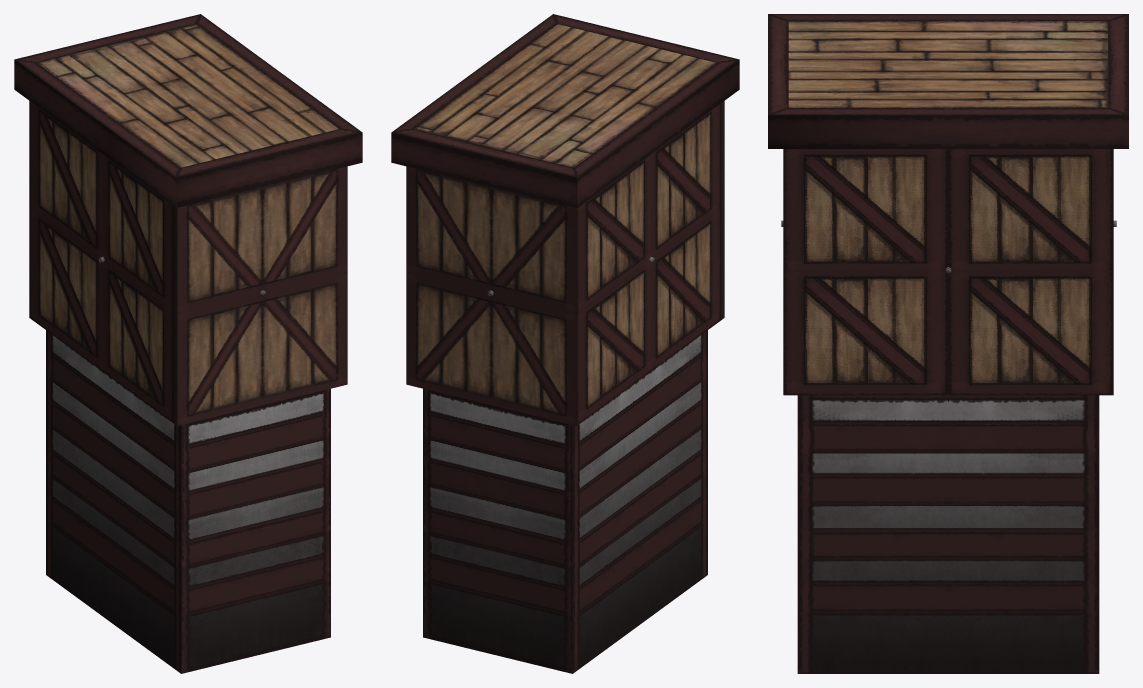
Rendered from GAM_MoveBridgeA.FBX.
The picture shows the model from 3 angles, left to right: view 1: azimuth 30°, elevation 25°; view 2: azimuth 150°, elevation 25°; view 3: azimuth 270°, elevation 25°; orthographic projection. The views are drawn at different scales.
Parts seen in each view (by area): view 1: GAM_MoveBridgeA; view 2: GAM_MoveBridgeA; view 3: GAM_MoveBridgeA.
Part boxes in pixels (x1=…): GAM_MoveBridgeA: x1=14, y1=14, x2=362, y2=673; GAM_MoveBridgeA: x1=391, y1=14, x2=739, y2=673; GAM_MoveBridgeA: x1=768, y1=14, x2=1128, y2=673.
Bounding box in the file's own units: 949 × 2482 × 1427.
1 material, 1 textured.
